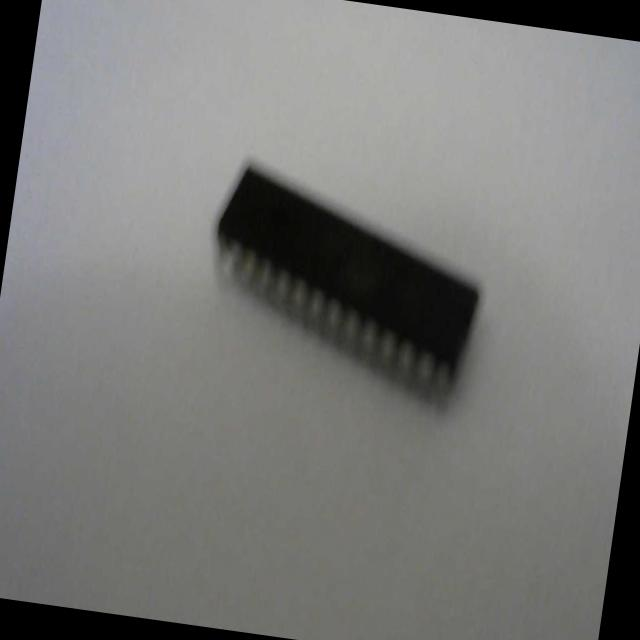atmega: (192, 151, 498, 416)
